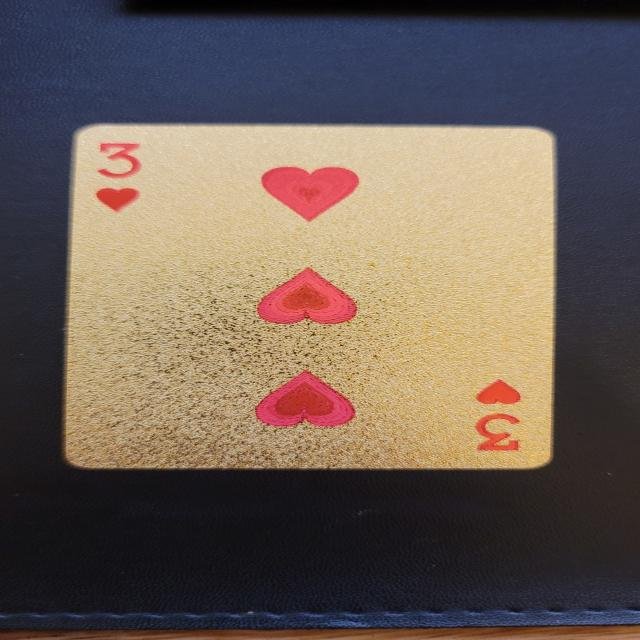3 of hearts: (62, 120, 563, 473)
